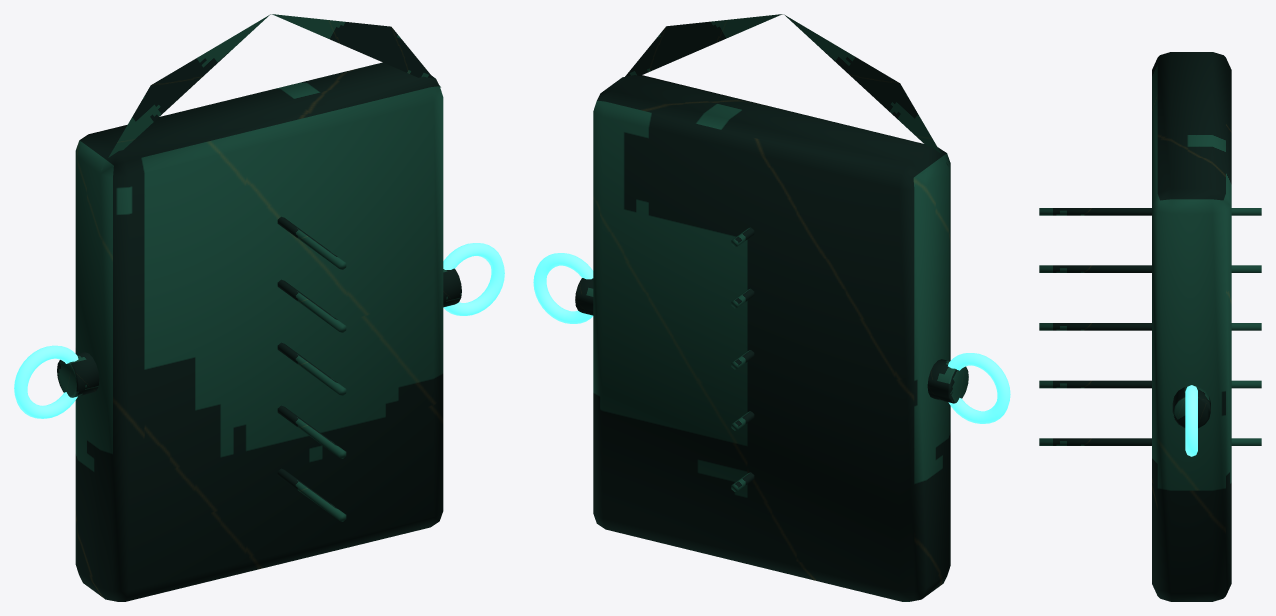
The model's file is inscribed_stele_pattern_jade.fbx.
The picture shows the model from 3 angles, left to right: view 1: azimuth 30°, elevation 25°; view 2: azimuth 150°, elevation 25°; view 3: azimuth 270°, elevation 25°; orthographic projection. The views are drawn at different scales.
Parts seen in each view (by area): view 1: TH10_Stele_Body, TH10_Stele_Crown, TH10_Stele_Handle, TH10_Stele_Handle.001, TH10_Stele_HandleSocket, TH10_Stele_Glyph, TH10_Stele_Glyph.002, TH10_Stele_Glyph.001, TH10_Stele_Glyph.003, TH10_Stele_Glyph.004; view 2: TH10_Stele_Body, TH10_Stele_Crown, TH10_Stele_Handle, TH10_Stele_Handle.001, TH10_Stele_HandleSocket; view 3: TH10_Stele_Body, TH10_Stele_Glyph.001, TH10_Stele_Glyph, TH10_Stele_Glyph.002, TH10_Stele_Glyph.003, TH10_Stele_Glyph.004, TH10_Stele_Handle.001, TH10_Stele_HandleSocket.001.
Part boxes in pixels (x1,y1,x2,y2): TH10_Stele_Body: [75, 62, 443, 601]; TH10_Stele_Crown: [101, 14, 440, 170]; TH10_Stele_Handle: [14, 345, 78, 418]; TH10_Stele_Handle.001: [443, 243, 504, 315]; TH10_Stele_HandleSocket: [57, 352, 99, 397]; TH10_Stele_Glyph: [277, 468, 346, 521]; TH10_Stele_Glyph.002: [277, 342, 346, 395]; TH10_Stele_Glyph.001: [277, 405, 346, 458]; TH10_Stele_Glyph.003: [277, 279, 346, 332]; TH10_Stele_Glyph.004: [277, 216, 346, 269]; TH10_Stele_Body: [593, 75, 950, 601]; TH10_Stele_Crown: [625, 14, 948, 166]; TH10_Stele_Handle: [948, 353, 1010, 423]; TH10_Stele_Handle.001: [533, 253, 593, 323]; TH10_Stele_HandleSocket: [927, 359, 968, 403]; TH10_Stele_Body: [1152, 52, 1231, 601]; TH10_Stele_Glyph.001: [1039, 380, 1261, 388]; TH10_Stele_Glyph: [1039, 438, 1261, 445]; TH10_Stele_Glyph.002: [1039, 323, 1261, 330]; TH10_Stele_Glyph.003: [1039, 265, 1261, 272]; TH10_Stele_Glyph.004: [1039, 208, 1261, 215]; TH10_Stele_Handle.001: [1185, 385, 1197, 456]; TH10_Stele_HandleSocket.001: [1172, 386, 1210, 428].
Bounding box in the file's own units: 0.488 × 0.525 × 0.21.
Materials: 2 (1 with a texture image).
